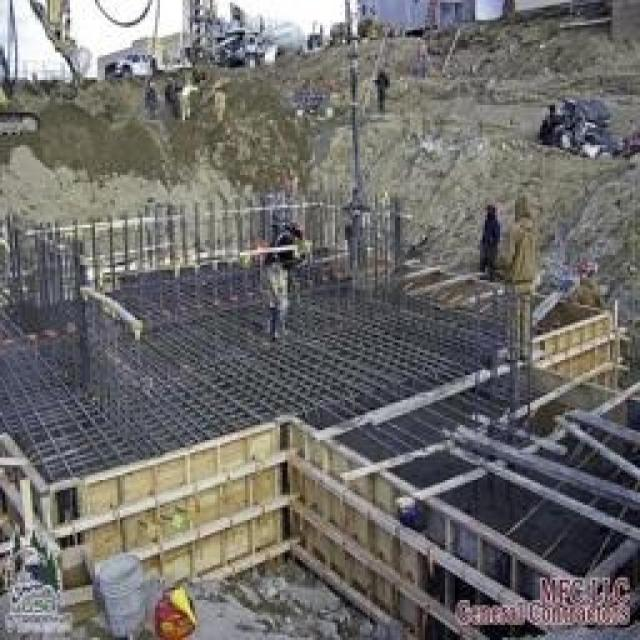Helmet: (502, 220, 558, 316), (256, 231, 306, 304), (280, 218, 314, 248), (512, 191, 538, 222)
